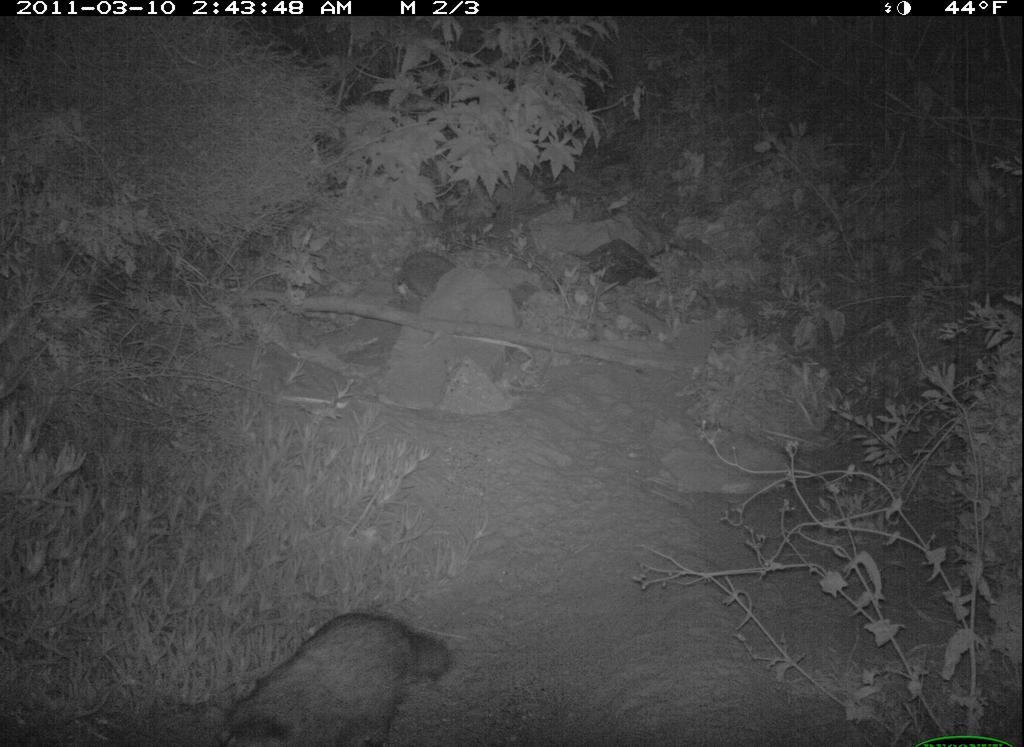raccoon: (204, 609, 461, 747)
